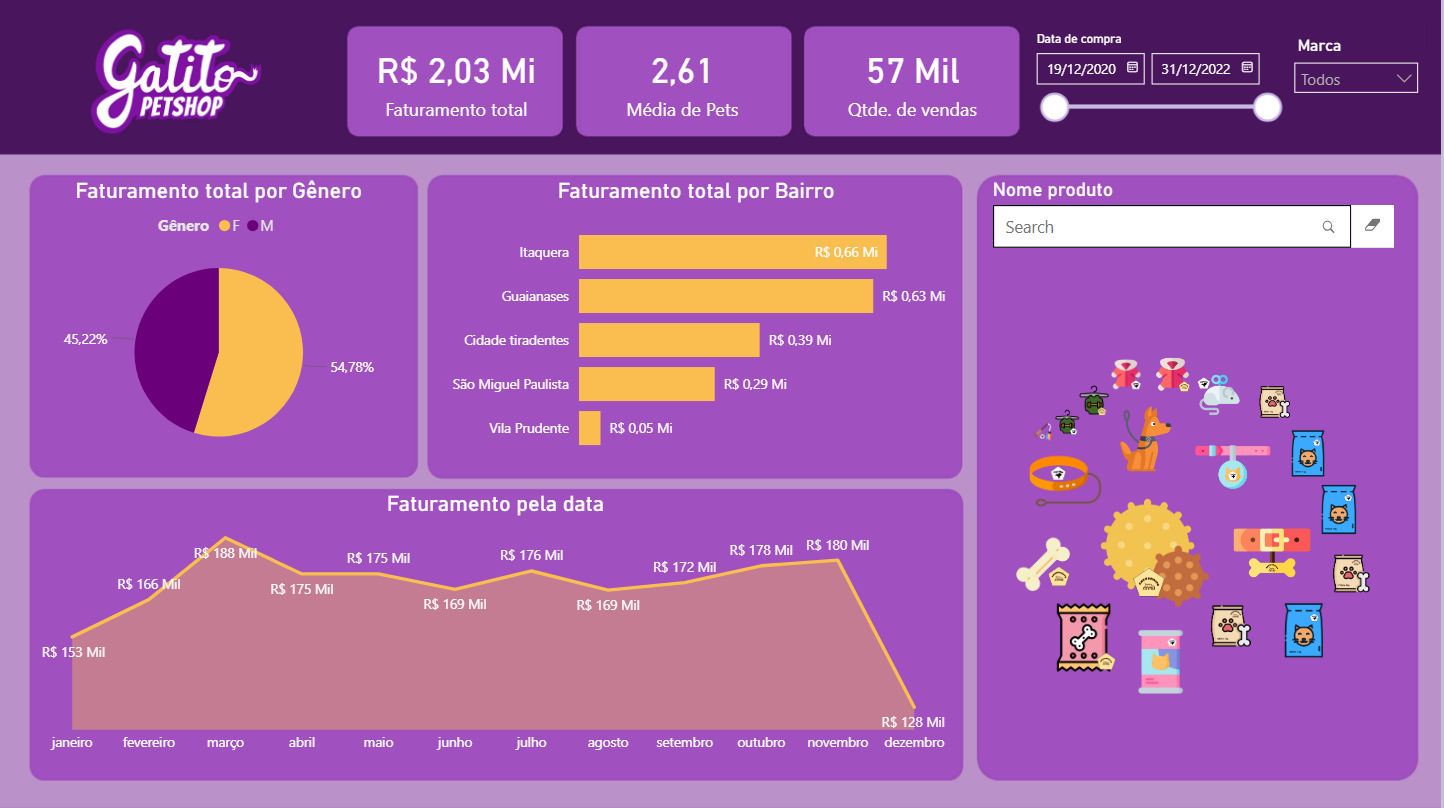

The page's visual inventory and layout, read from the dashboard file:
{"tool":"powerbi","page":{"name":"Página 1","canvas":[1280,720],"ordinal":0},"visuals":[{"type":"card","fields":{"Values":["Avg(Clientes.Pets)"]},"box":[512.5,23.9,187.1,94],"z":0},{"type":"card","fields":{"Values":["Sum(Vendas.Quantidade)"]},"box":[719.1,23.9,181.8,94],"z":1000},{"type":"card","fields":{"Values":["Vendas.Faturamento total"]},"box":[311.2,23.9,187.1,94],"z":2000},{"type":"pieChart","fields":{"Category":["Clientes.Gênero"],"Y":["Vendas.Faturamento total"]},"box":[21.3,157.8,345.8,258.9],"z":4000},{"type":"clusteredBarChart","fields":{"Category":["Clientes.Bairro"],"Y":["Vendas.Faturamento total"]},"box":[387.6,158.1,460.2,258.8],"z":5000},{"type":"areaChart","title":"Faturamento pela data","fields":{"Category":["Vendas.Data de compra.Variation.Hierarquia de datas.Ano","Vendas.Data de compra.Variation.Hierarquia de datas.Trimestre","Vendas.Data de compra.Variation.Hierarquia de datas.Mês","Vendas.Data de compra.Variation.Hierarquia de datas.Dia"],"Y":["Vendas.Faturamento total"]},"box":[31.9,436,815.9,241],"z":6000},{"type":"ImageGrid_FC5183B9_926C_45E0_B5F7_0CE9EAF1DA9B","fields":{"ImageURL":["Produtos.Url img"]},"box":[875.9,244.8,365.9,442.4],"z":7000},{"type":"textFilter25A4896A83E0487089E2B90C9AE57C8A","fields":{"field":["Produtos.Nome produto"]},"box":[875.9,158.1,365.9,77.8],"z":8000},{"type":"slicer","fields":{"Values":["Produtos.Marca"]},"box":[1139.4,27.5,130.3,86.9],"z":9000},{"type":"slicer","fields":{"Values":["Vendas.Data de compra"]},"box":[907.1,23.1,238.5,91.3],"z":10000}]}

Visuals, with their boxes in screenshot pixels (x1, y1, x2, y2), scaled from the page's 1280x720 canvas onto the 1444x808 screenshot:
card - Avg(Clientes.Pets): box=[578, 27, 789, 132]
card - Sum(Vendas.Quantidade): box=[811, 27, 1016, 132]
card - Vendas.Faturamento total: box=[351, 27, 562, 132]
pieChart - Clientes.Gênero x Vendas.Faturamento total: box=[24, 177, 414, 468]
clusteredBarChart - Clientes.Bairro x Vendas.Faturamento total: box=[437, 177, 956, 468]
"Faturamento pela data" areaChart: box=[36, 489, 956, 760]
ImageGrid_FC5183B9_926C_45E0_B5F7_0CE9EAF1DA9B - Produtos.Url img: box=[988, 275, 1401, 771]
textFilter25A4896A83E0487089E2B90C9AE57C8A - Produtos.Nome produto: box=[988, 177, 1401, 265]
slicer - Produtos.Marca: box=[1285, 31, 1432, 128]
slicer - Vendas.Data de compra: box=[1023, 26, 1292, 128]
